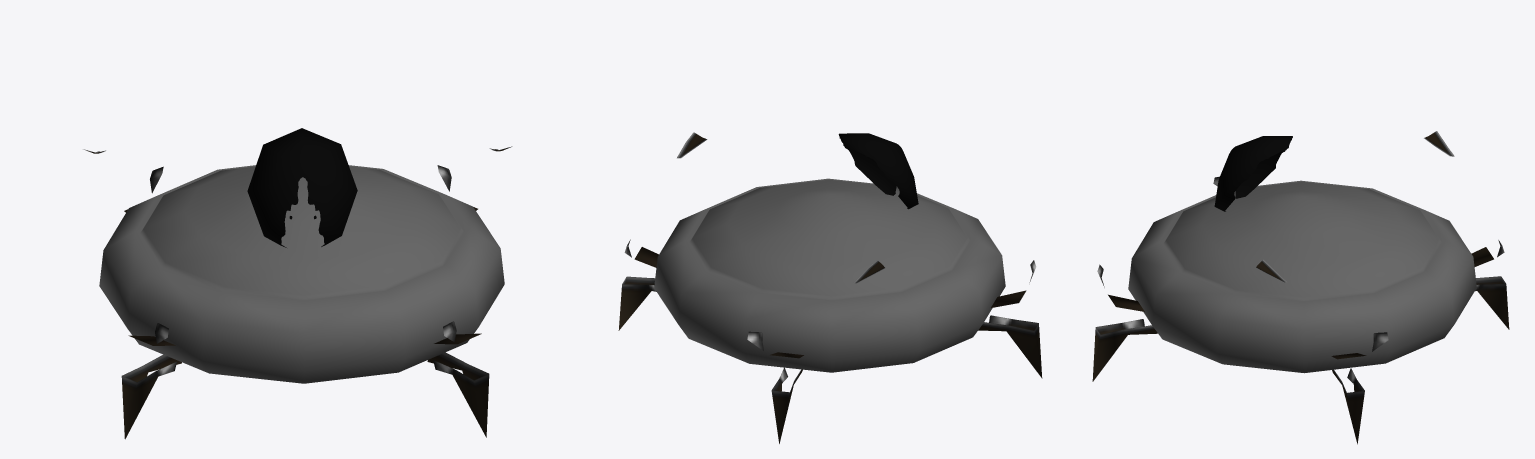
3 renders of one model, left to right at view 1: azimuth 30°, elevation 25°; view 2: azimuth 150°, elevation 25°; view 3: azimuth 270°, elevation 25°, orthographic. The views are drawn at different scales.
Parts seen in each view (by area): view 1: 810002_3; view 2: 810002_3; view 3: 810002_3.
Part boxes in pixels (x1,y1,x2,y2): 810002_3: (83,128,512,439); 810002_3: (618,132,1042,443); 810002_3: (1092,131,1509,444).
Size of the model in its own units: 517 by 342 by 500.
